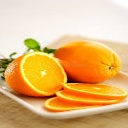orange: (3, 50, 68, 97)
